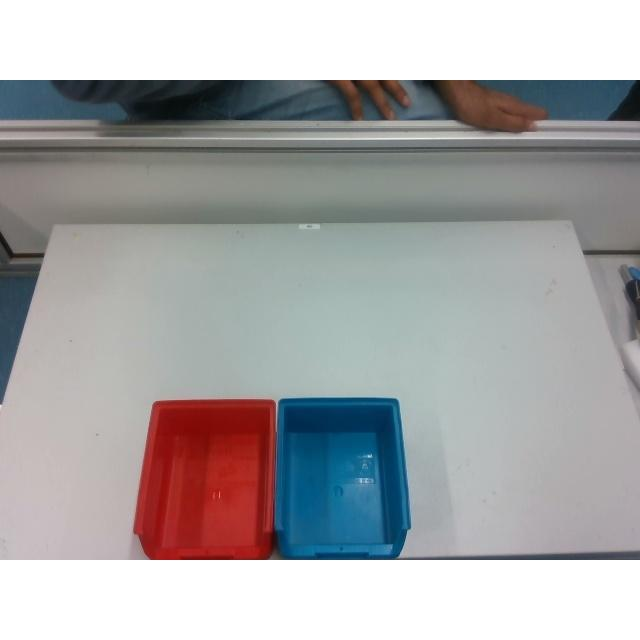container_box_blue: (274, 398, 410, 558)
container_box_red: (134, 400, 274, 558)
